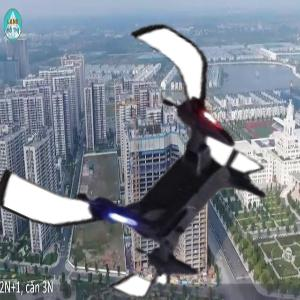drone: (10, 23, 286, 299)
